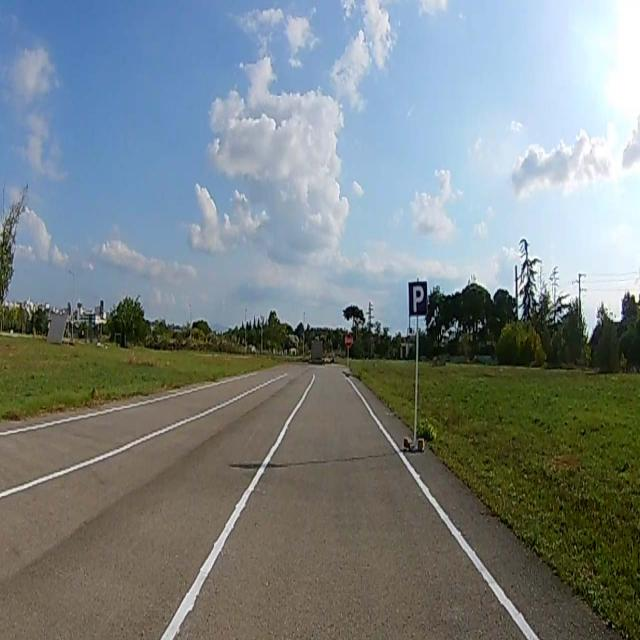park: (408, 281, 427, 316)
